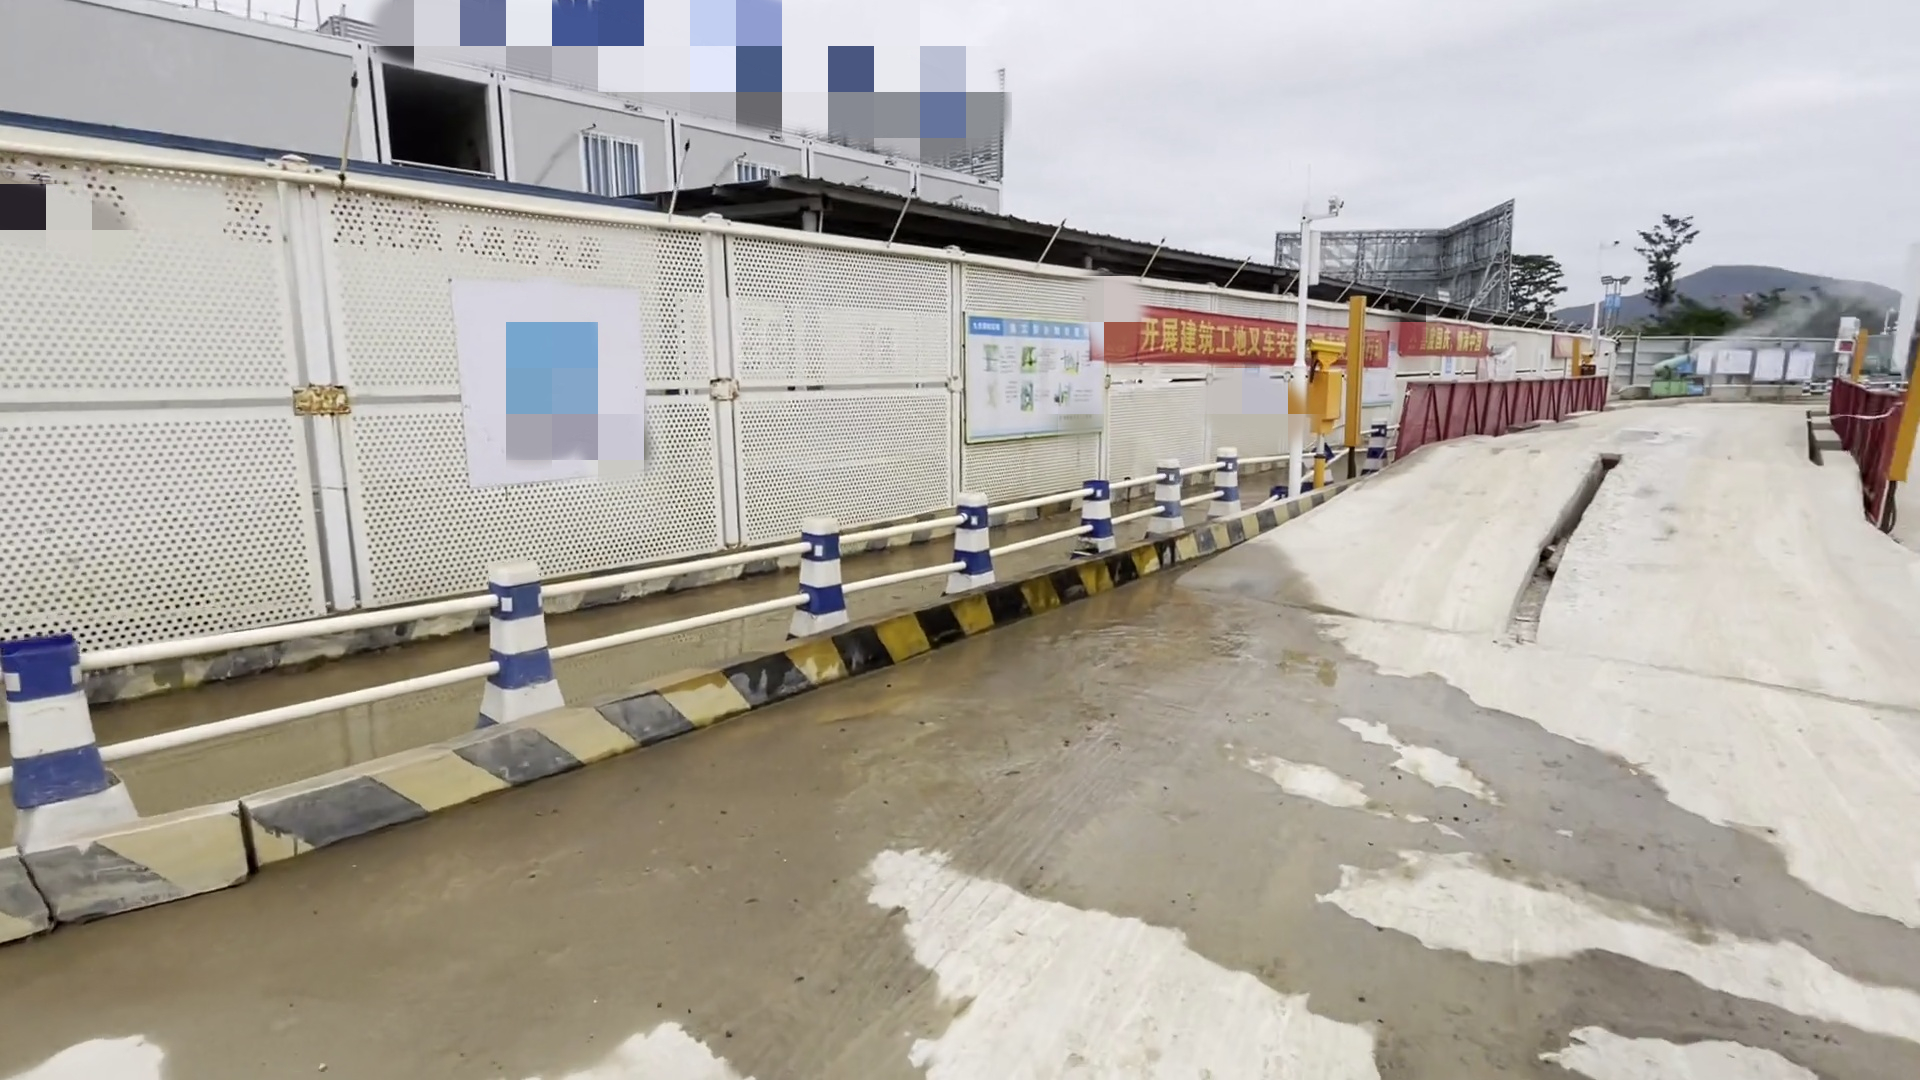fence: (1402, 378, 1607, 455), (1821, 371, 1891, 488)
slogan: (1104, 291, 1491, 385), (957, 299, 1110, 469)
